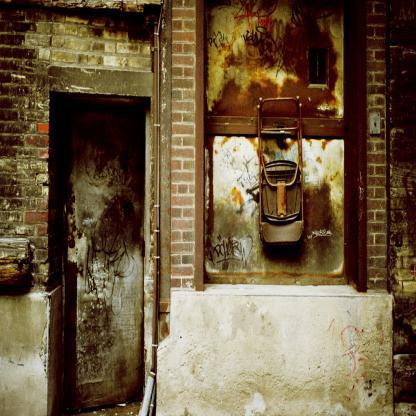door: (66, 113, 146, 404)
